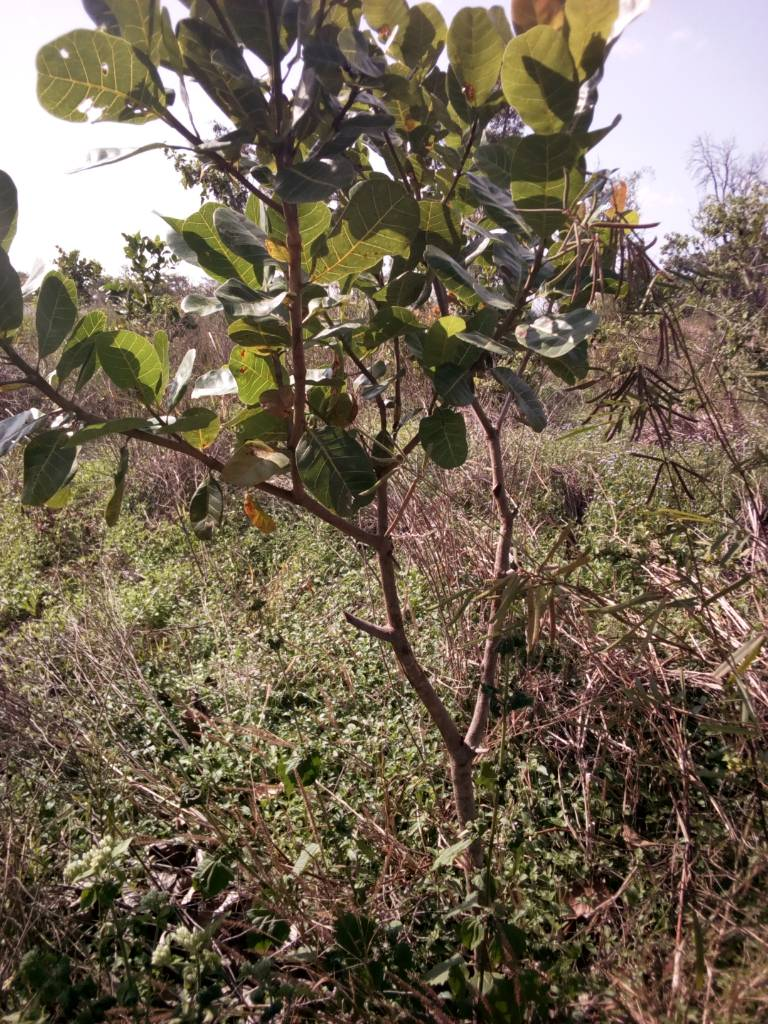Anoplonemis curvipes: (36, 28, 174, 128)
